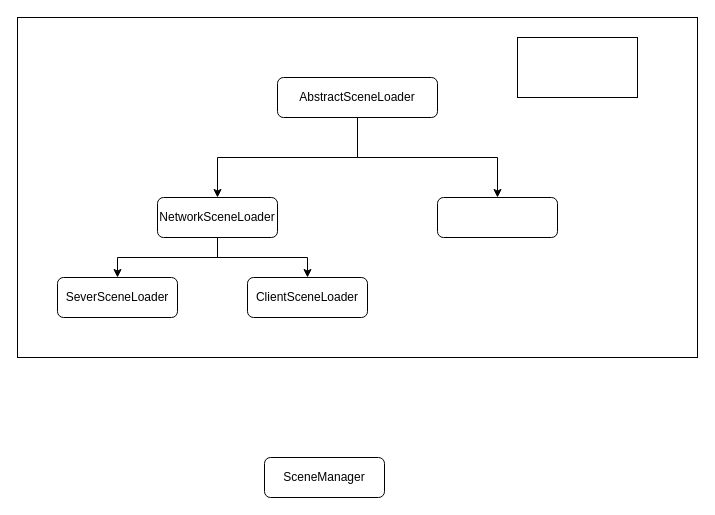
This 715x515 diagram has some shape labels left out. The shapes that lost their labels are listed below. From the top down, each one's box as (x1, y1, x2, y2) in pixels, then its label:
(516, 36, 638, 98): Load/Unload Scene when no player in it
(436, 196, 558, 238): SceneLoader
